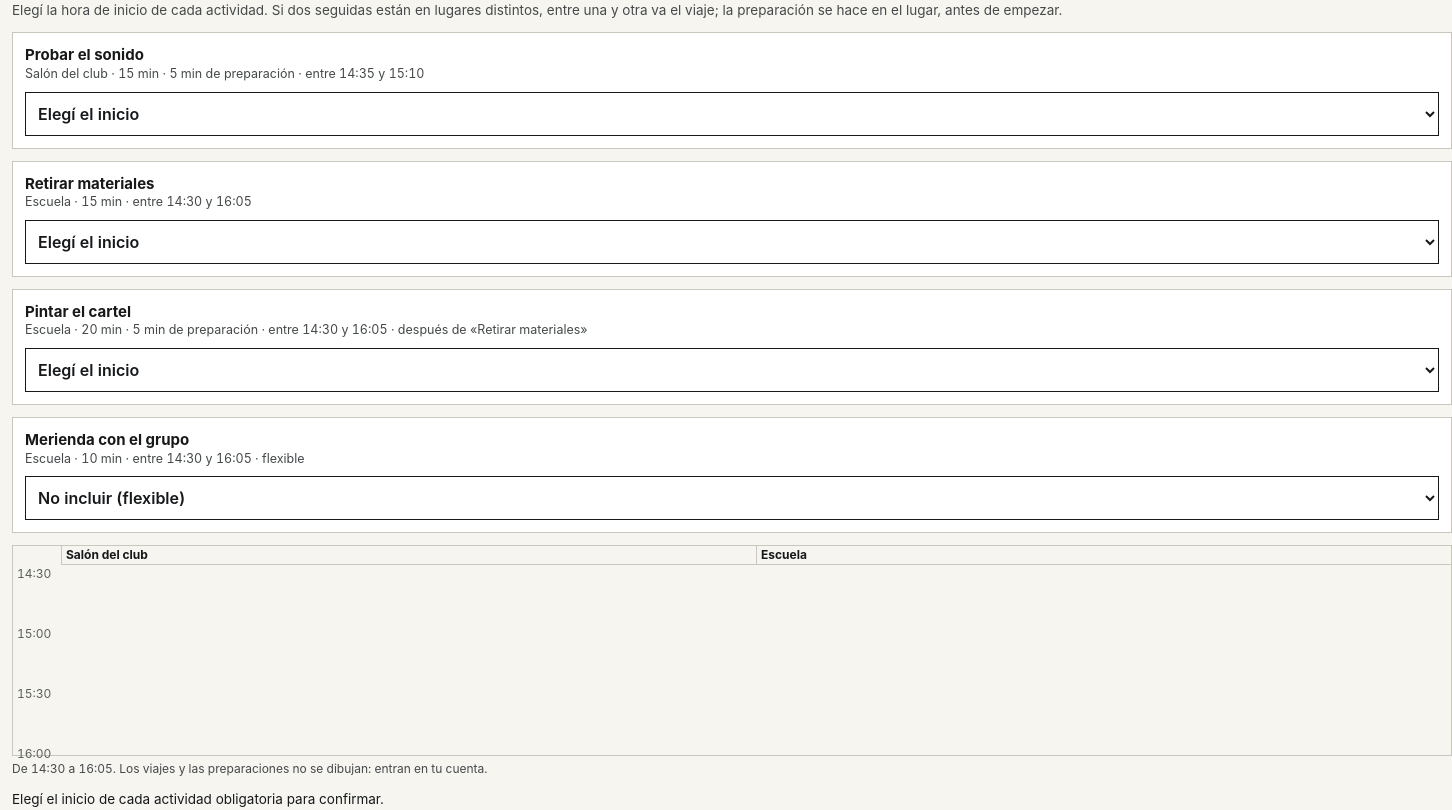
it: y1.rehearsal-schedule: semantic, non-drag construction and atomic confirmation
Expected: the text with test id "missing" is not empty, [12, 791, 384, 807]
Expected: the element with test id "afternoon-view" is shown, [12, 545, 1451, 777]
Select "14:40" in the dropdown labelled "Probar el sonido" at (732,114), box [25, 92, 1439, 136]
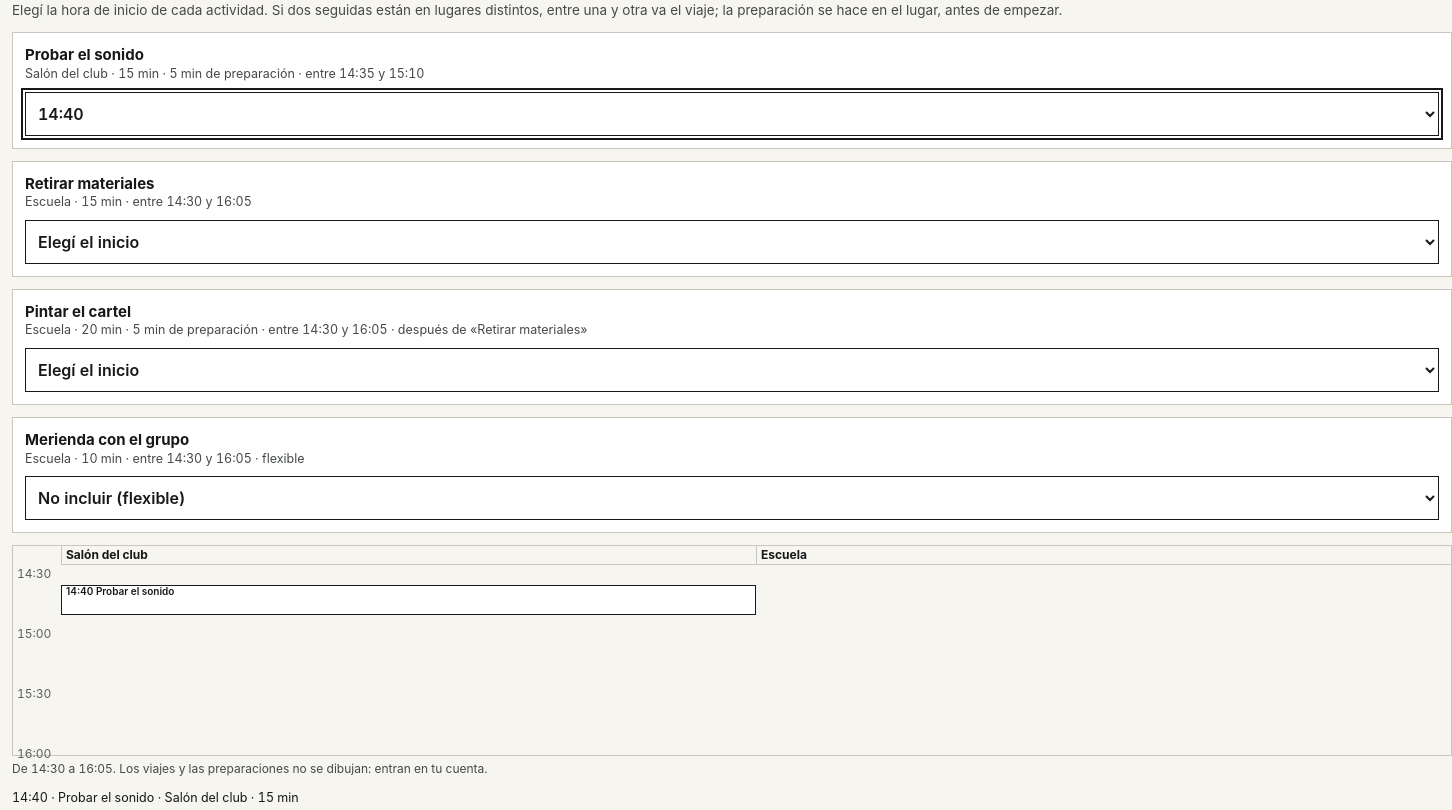
Select "15:00" in the dropdown labelled "Retirar materiales" at (732,242), box [25, 220, 1439, 264]
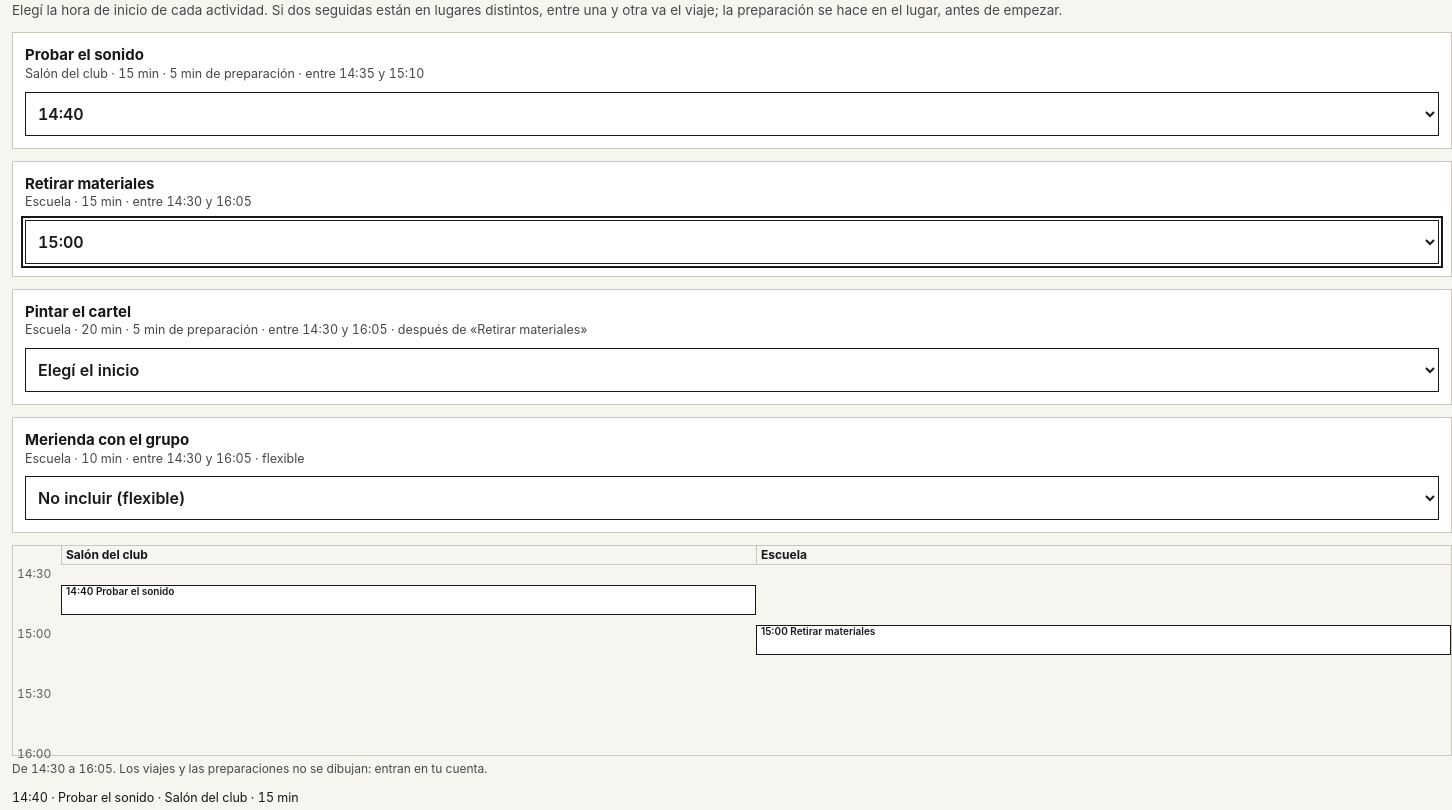
Select "15:20" in the dropdown labelled "Pintar el cartel" at (732,370), box [25, 348, 1439, 392]
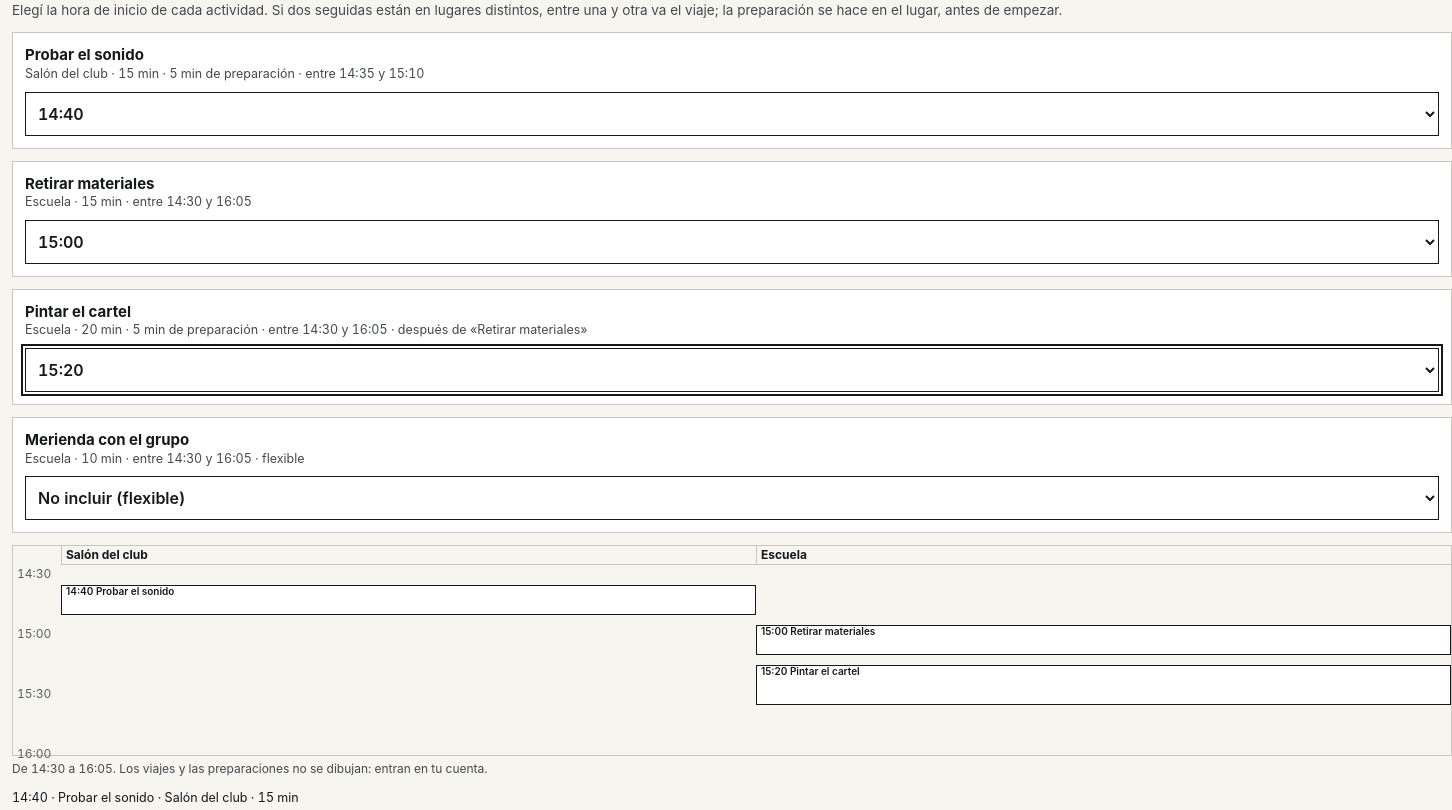
Select "15:40" in the dropdown labelled "Merienda con el grupo" at (732,498), box [25, 476, 1439, 520]
(page scrolled)
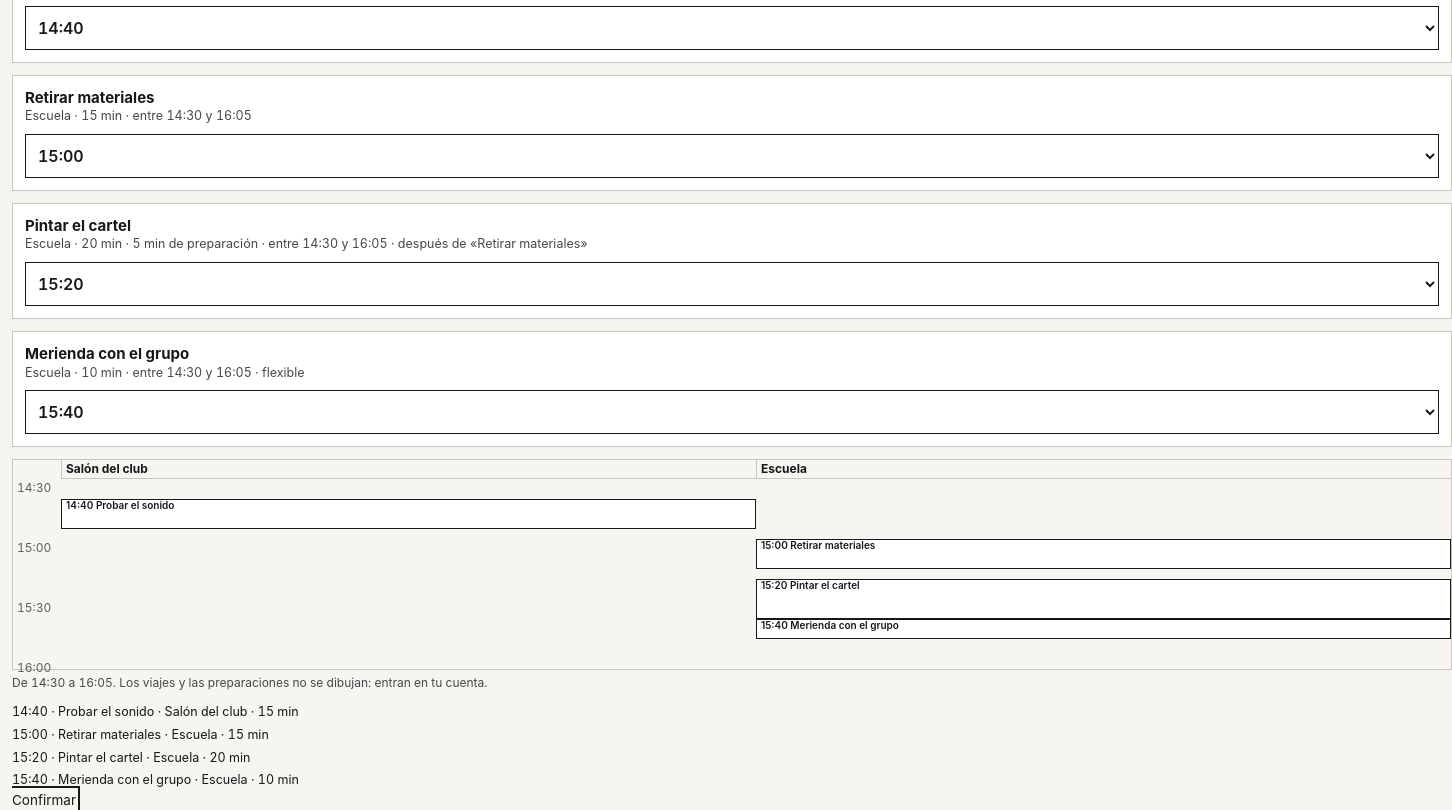
Expected: the element with test id "afternoon-view" shows "no se dibujan", [113, 675, 488, 690]
Result: the number of list items is 4 at [12, 704, 299, 719]; [12, 727, 269, 742]; [12, 750, 250, 764]; [12, 772, 299, 787]
Press Enter
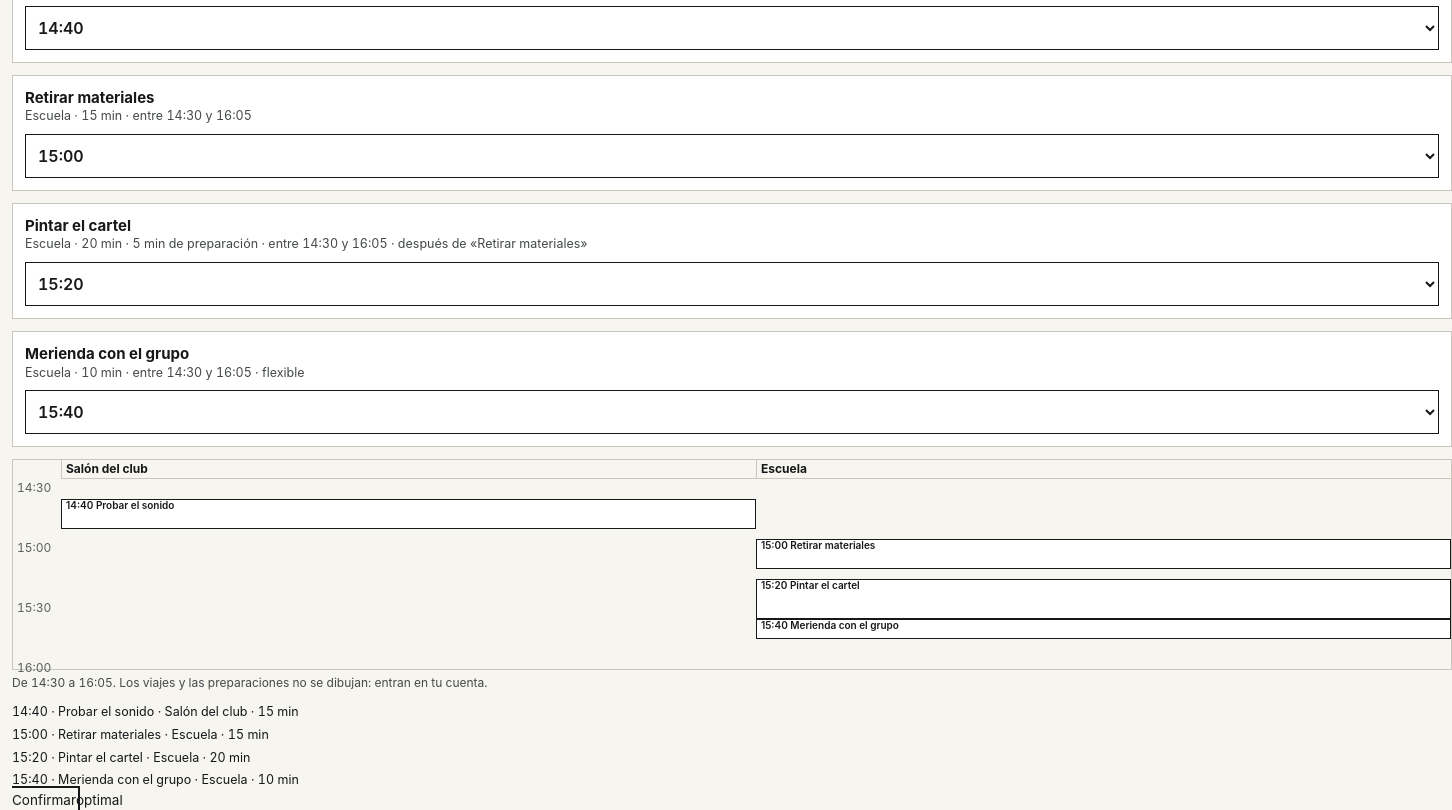
Expected: the dropdown labelled "Probar el sonido" is disabled, [25, 6, 1439, 50]
Result: the text named "Resultado" reads "optimal" at [76, 792, 123, 808]
